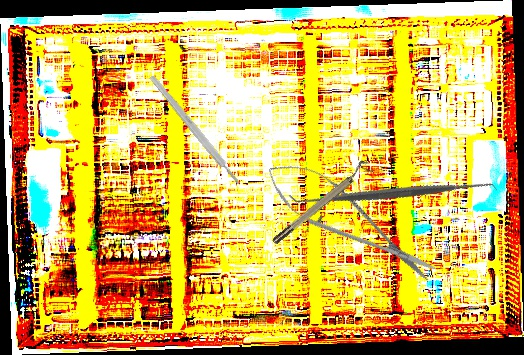Fixation Ring: (267, 157, 375, 247)
Micro Scissor: (256, 148, 445, 295)
Scalpel Handle: (148, 73, 242, 187)
Spatula Surgical: (287, 87, 499, 299)
